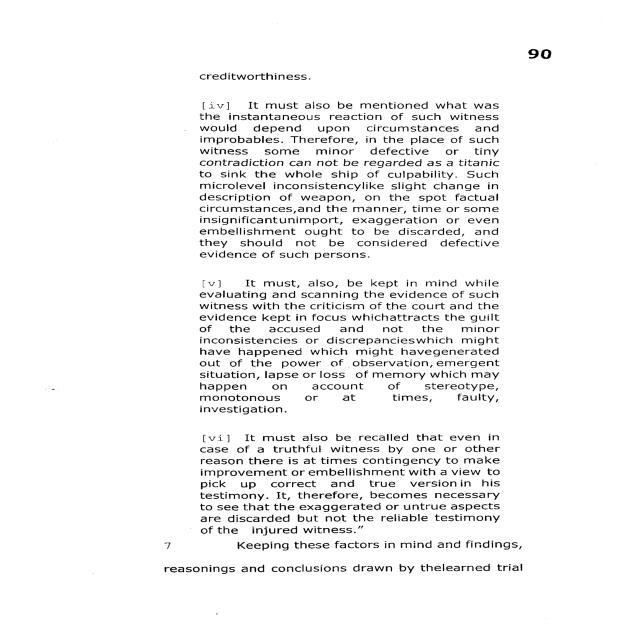page-number: (439, 2, 638, 96)
